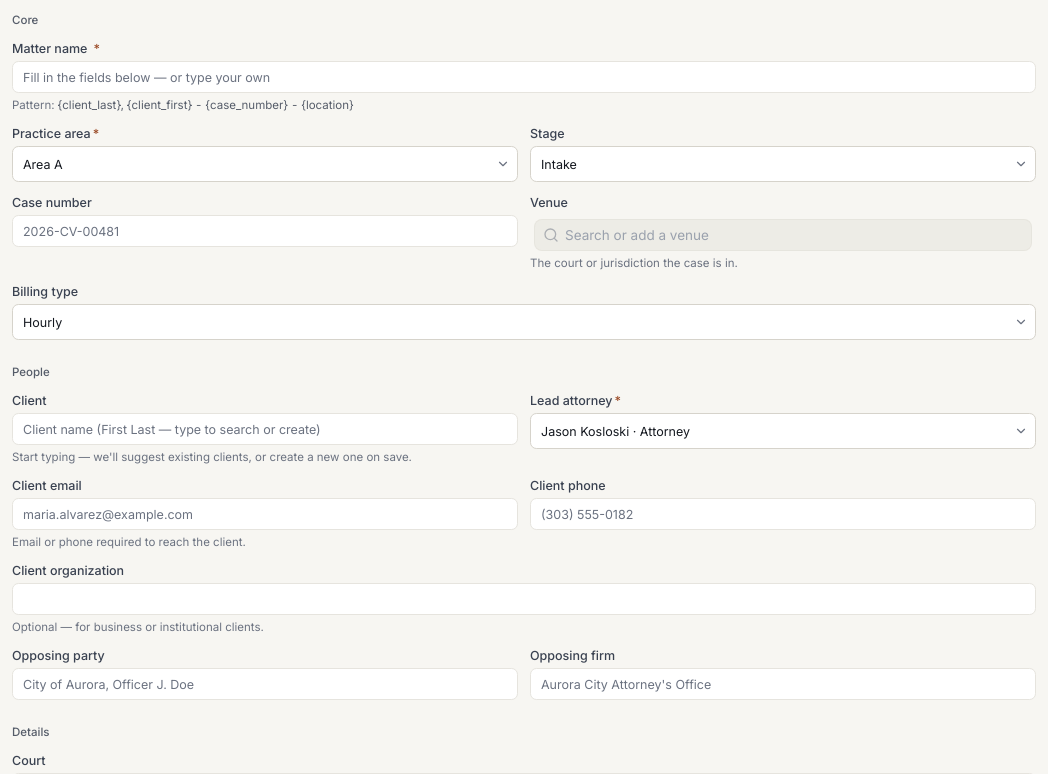
NewMatterForm — billing type follows the practice area › offers only the area's types, resets on area change
Expected: the dropdown labelled "Billing type" shows "Hourly", [12,304,1036,340]
Select "Area B" in the dropdown labelled "Practice area*" at (265,164), box [12,146,518,182]
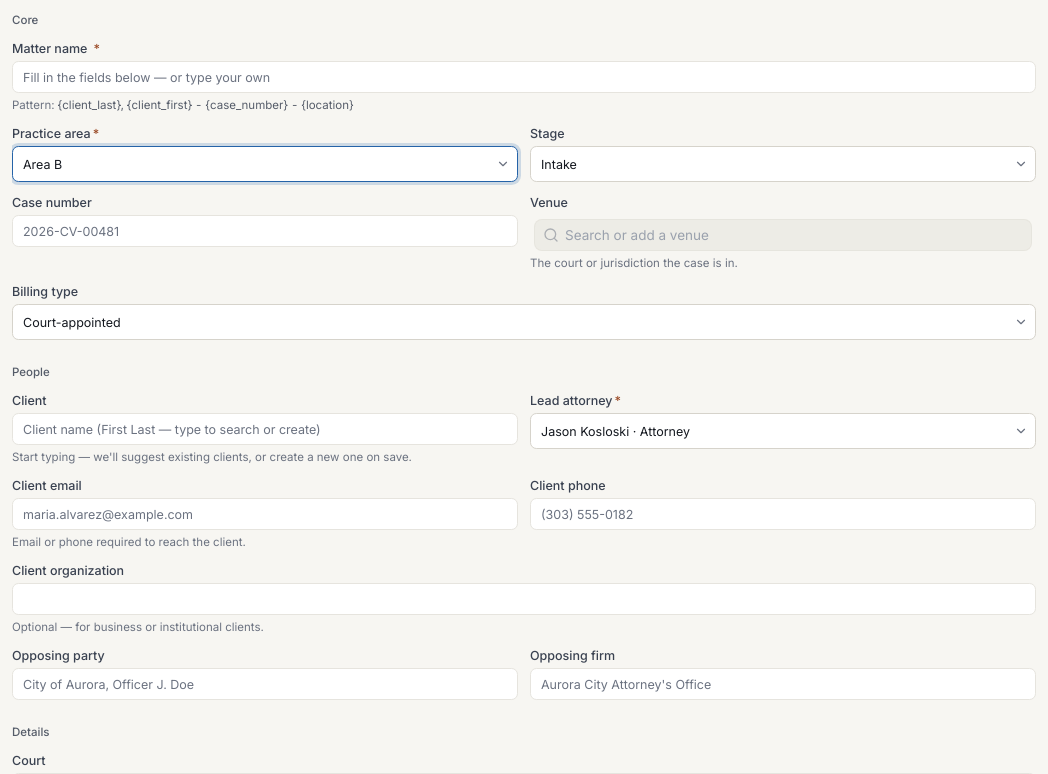
Expected: the dropdown labelled "Billing type" shows "Court-appointed", [12,304,1036,340]
Select "Area A" in the dropdown labelled "Practice area*" at (265,164), box [12,146,518,182]
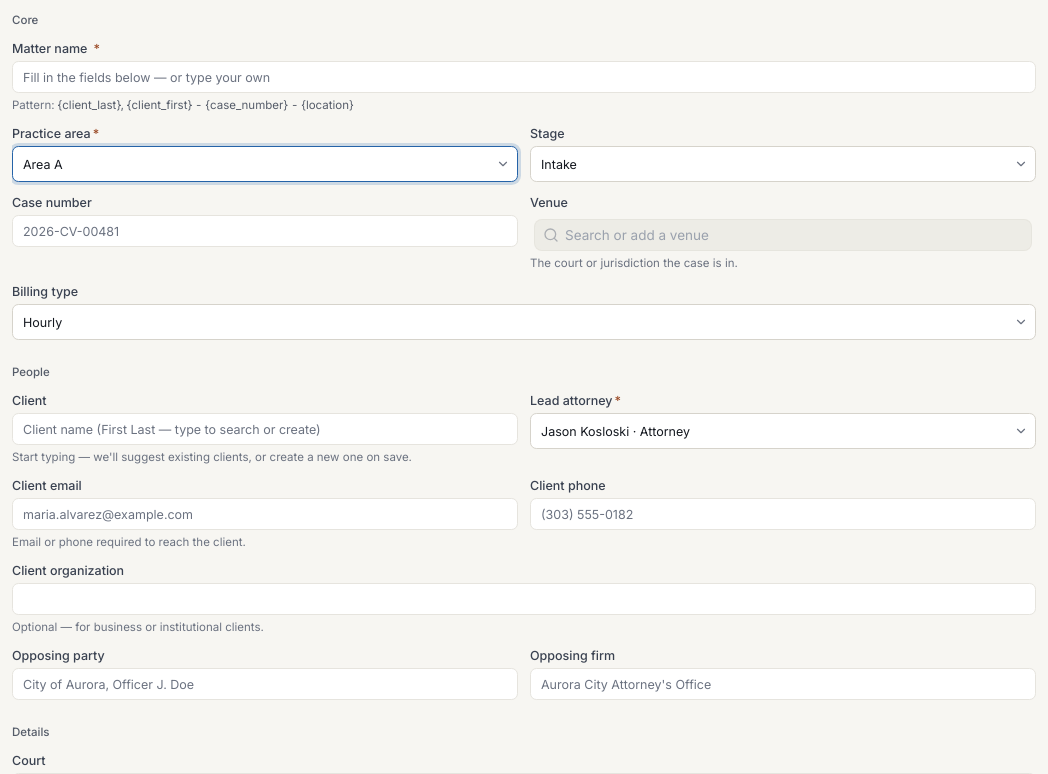
Expected: the dropdown labelled "Billing type" shows "Hourly", [12,304,1036,340]
